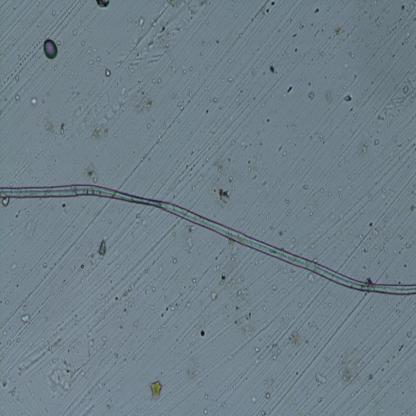Air bubble: (41, 38, 58, 58)
Anthropogenic: (0, 184, 416, 296)
Background material: (127, 38, 157, 72), (341, 350, 362, 386), (47, 365, 74, 392), (135, 84, 155, 116), (42, 114, 61, 139), (220, 271, 244, 289), (17, 43, 33, 70), (186, 0, 204, 20), (85, 162, 100, 185), (25, 214, 37, 242), (241, 315, 256, 337), (167, 23, 187, 39), (214, 184, 230, 204), (58, 8, 75, 26), (130, 210, 146, 229), (150, 381, 164, 401), (88, 124, 106, 139), (236, 286, 254, 301), (270, 337, 280, 363), (314, 370, 330, 386), (402, 83, 416, 100), (48, 338, 62, 354), (214, 153, 225, 173), (2, 72, 16, 87), (152, 129, 163, 147), (187, 361, 199, 377), (290, 331, 304, 344), (19, 293, 33, 306), (184, 236, 195, 252), (185, 160, 196, 176), (324, 87, 336, 101), (375, 109, 386, 123), (158, 21, 167, 38), (6, 220, 15, 237), (87, 338, 97, 353), (165, 302, 180, 312), (207, 289, 219, 301), (185, 222, 197, 234), (1, 195, 12, 208), (124, 284, 135, 296), (209, 264, 222, 274), (95, 0, 111, 8), (277, 142, 286, 156), (99, 240, 106, 258), (9, 387, 19, 399), (68, 69, 78, 81), (253, 354, 263, 366), (13, 206, 23, 218), (194, 170, 204, 182), (283, 268, 296, 277), (120, 87, 130, 98), (334, 25, 344, 36), (83, 24, 93, 35), (104, 67, 113, 79), (58, 125, 67, 137), (19, 314, 31, 323), (342, 93, 354, 102), (248, 64, 257, 76), (42, 296, 52, 306), (169, 0, 180, 9), (29, 96, 38, 107), (378, 243, 389, 252), (114, 256, 121, 270), (307, 272, 315, 284), (72, 87, 80, 99), (361, 141, 368, 154), (344, 49, 354, 58), (0, 326, 9, 336), (116, 60, 126, 69), (176, 102, 186, 111), (244, 310, 254, 319), (149, 76, 160, 84), (122, 351, 130, 362), (88, 59, 95, 71), (308, 322, 322, 328), (312, 196, 319, 208), (308, 90, 316, 100), (226, 173, 234, 183), (12, 93, 22, 101), (8, 262, 18, 270), (97, 380, 104, 391), (202, 404, 209, 415), (315, 394, 324, 402), (188, 184, 197, 192), (45, 88, 52, 98), (246, 161, 252, 172), (101, 336, 106, 349), (199, 329, 207, 337), (396, 342, 404, 350), (62, 359, 70, 367), (102, 296, 110, 304), (60, 202, 68, 210), (286, 84, 293, 93), (292, 31, 301, 38), (152, 18, 158, 28), (118, 319, 124, 329), (325, 289, 333, 296), (138, 156, 146, 163), (270, 284, 278, 291), (40, 261, 48, 268), (374, 137, 381, 145), (172, 256, 179, 264), (138, 18, 145, 26), (270, 67, 277, 75), (259, 409, 267, 416), (368, 221, 376, 228), (16, 75, 22, 84), (59, 321, 64, 331), (172, 230, 177, 240), (146, 124, 153, 131), (120, 106, 127, 113), (286, 208, 292, 216), (410, 204, 416, 212), (228, 74, 234, 82), (91, 252, 97, 260), (184, 300, 190, 308), (302, 183, 308, 191), (406, 331, 412, 339), (326, 190, 332, 198), (252, 345, 260, 351), (234, 304, 240, 312), (265, 391, 271, 399), (364, 247, 370, 255), (114, 293, 119, 302), (111, 132, 118, 138), (80, 263, 86, 270), (18, 369, 24, 376), (51, 10, 57, 17), (404, 243, 412, 248), (403, 262, 408, 270), (80, 276, 85, 284), (292, 48, 300, 53), (73, 29, 78, 37), (318, 134, 324, 140), (313, 8, 319, 14), (204, 109, 210, 115), (283, 313, 289, 319), (191, 278, 197, 284), (96, 56, 102, 62), (338, 193, 344, 199), (12, 4, 18, 10), (4, 298, 10, 304), (375, 231, 380, 238), (74, 318, 79, 325), (188, 91, 193, 98), (3, 69, 8, 76), (7, 375, 12, 382), (300, 134, 304, 142), (106, 48, 110, 56), (181, 69, 187, 74), (231, 140, 236, 146), (151, 286, 156, 292), (293, 370, 299, 375), (16, 337, 22, 342), (243, 145, 249, 150), (114, 82, 119, 88), (271, 0, 276, 6), (53, 65, 58, 71), (227, 58, 232, 64), (65, 348, 71, 353), (320, 52, 326, 57), (116, 40, 121, 46), (233, 12, 238, 18), (252, 173, 258, 178), (306, 393, 310, 400), (223, 401, 227, 408), (118, 340, 122, 347), (396, 308, 400, 315), (81, 40, 85, 47), (353, 73, 357, 80), (64, 61, 68, 68), (228, 354, 233, 359), (320, 188, 325, 193), (204, 86, 209, 91), (130, 129, 135, 134), (238, 32, 242, 38), (206, 20, 210, 26), (2, 382, 8, 386), (266, 117, 270, 123), (298, 302, 302, 308), (86, 50, 92, 54), (206, 156, 210, 162), (138, 30, 142, 36), (115, 352, 119, 358), (278, 330, 281, 337), (265, 8, 270, 12), (134, 305, 139, 309), (0, 356, 5, 360), (62, 279, 66, 284), (232, 320, 237, 324), (283, 289, 287, 294), (98, 92, 102, 97), (57, 40, 61, 45), (190, 66, 193, 72), (73, 158, 76, 164), (16, 284, 20, 288), (151, 306, 155, 310), (176, 368, 180, 372), (287, 200, 290, 205), (372, 375, 375, 380), (216, 39, 219, 44), (190, 150, 193, 155), (205, 396, 208, 401), (324, 303, 327, 308), (129, 332, 132, 337), (338, 162, 341, 167), (263, 306, 266, 311), (162, 325, 166, 328), (214, 99, 217, 103), (161, 314, 164, 318), (124, 308, 126, 313), (158, 329, 161, 332), (200, 53, 203, 56), (329, 303, 331, 306), (260, 144, 263, 146)
